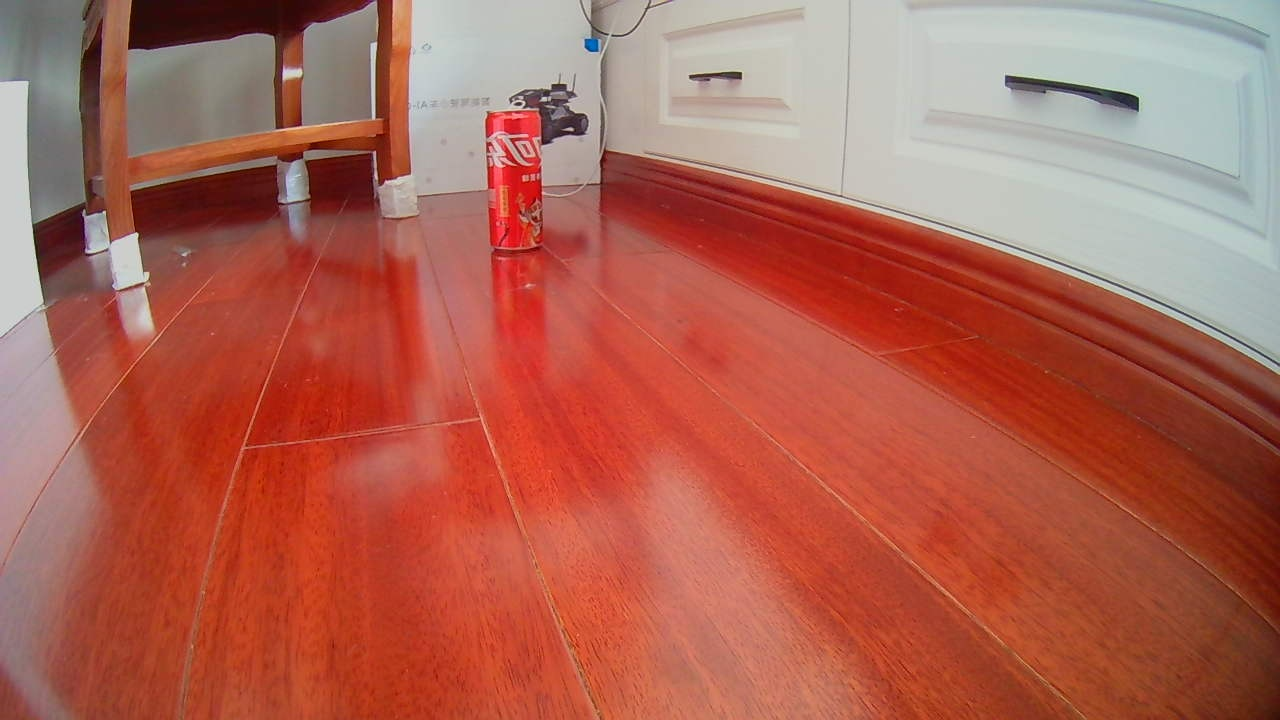cola: (484, 110, 544, 252)
